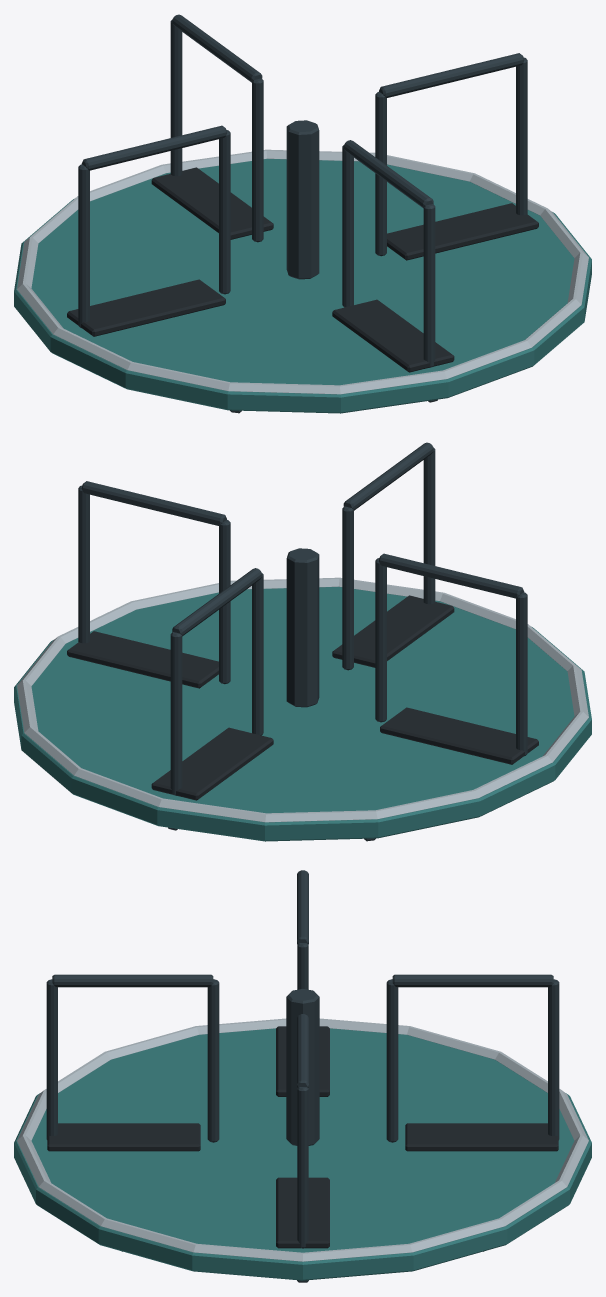
Rendered from b09_merry_go_round.glb.
3 renders of one model, top to bottom at view 1: azimuth 30°, elevation 25°; view 2: azimuth 150°, elevation 25°; view 3: azimuth 270°, elevation 25°, orthographic.
Visible parts, largest first — view 1: b09_merry_go_round; view 2: b09_merry_go_round; view 3: b09_merry_go_round.
Part boxes in pixels (x1,y1,x2,y2): b09_merry_go_round: (14,14,591,413); b09_merry_go_round: (14,442,591,841); b09_merry_go_round: (14,870,591,1282).
Size of the model in its own units: 2.26 by 0.9742 by 2.26.
